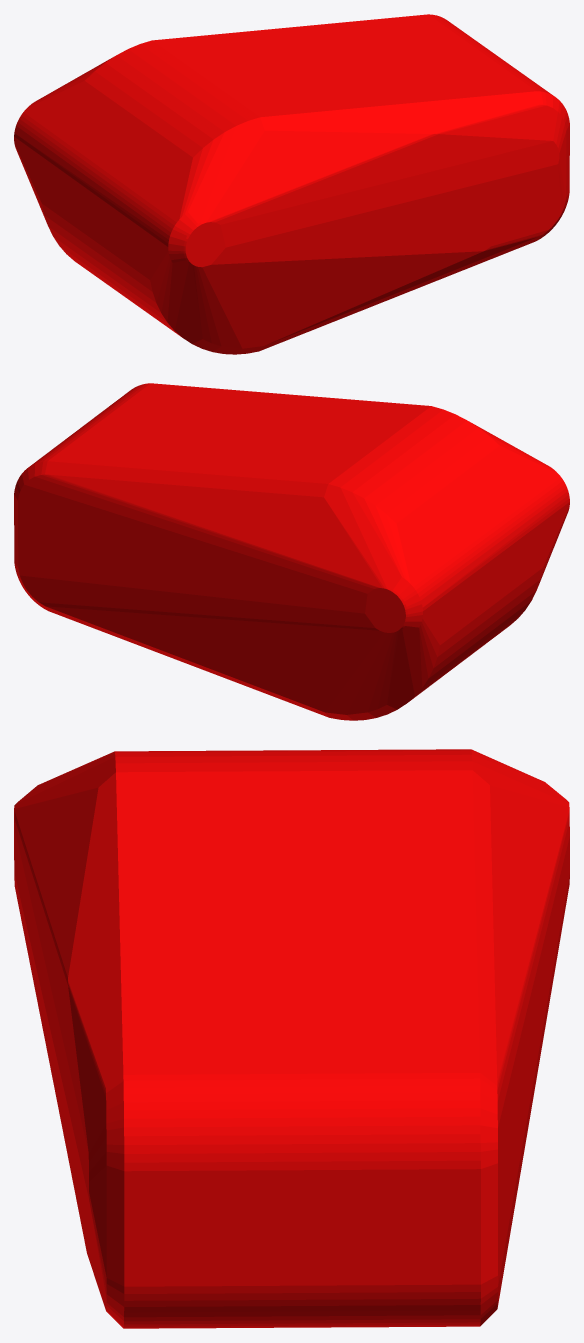
Rendered from col_distal_phalanx.gltf.
3 views of the same model, one above another, from view 1: azimuth 30°, elevation 25°; view 2: azimuth 150°, elevation 25°; view 3: azimuth 270°, elevation 25° (orthographic). The views are drawn at different scales.
Parts seen in each view (by area): view 1: col_distal_phalanx; view 2: col_distal_phalanx; view 3: col_distal_phalanx.
Part boxes in pixels (x1=…): col_distal_phalanx: x1=14, y1=14, x2=569, y2=354; col_distal_phalanx: x1=14, y1=383, x2=569, y2=720; col_distal_phalanx: x1=14, y1=749, x2=569, y2=1328.
Bounding box in the file's own units: 0.0482 × 0.025 × 0.032.
